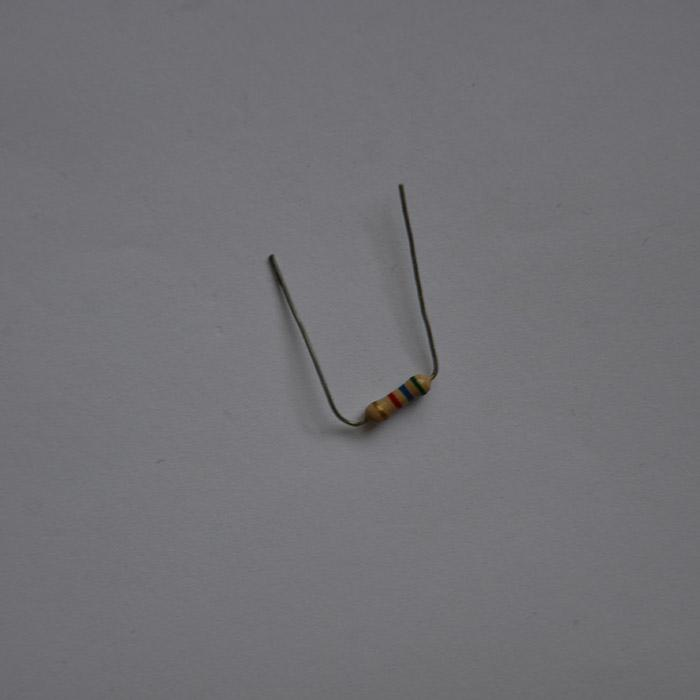resistor: (366, 372, 434, 424)
